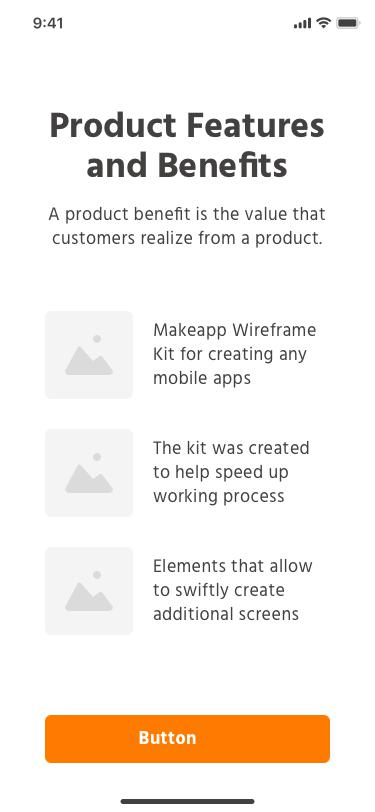Image: (45, 311, 135, 400), (45, 546, 135, 635), (45, 429, 134, 518)
Text: (51, 112, 324, 179), (49, 207, 327, 249), (152, 320, 317, 389), (153, 440, 310, 508), (153, 558, 314, 623)
TextButton: (45, 715, 331, 764)
UpperTaskBar: (33, 17, 362, 31)
